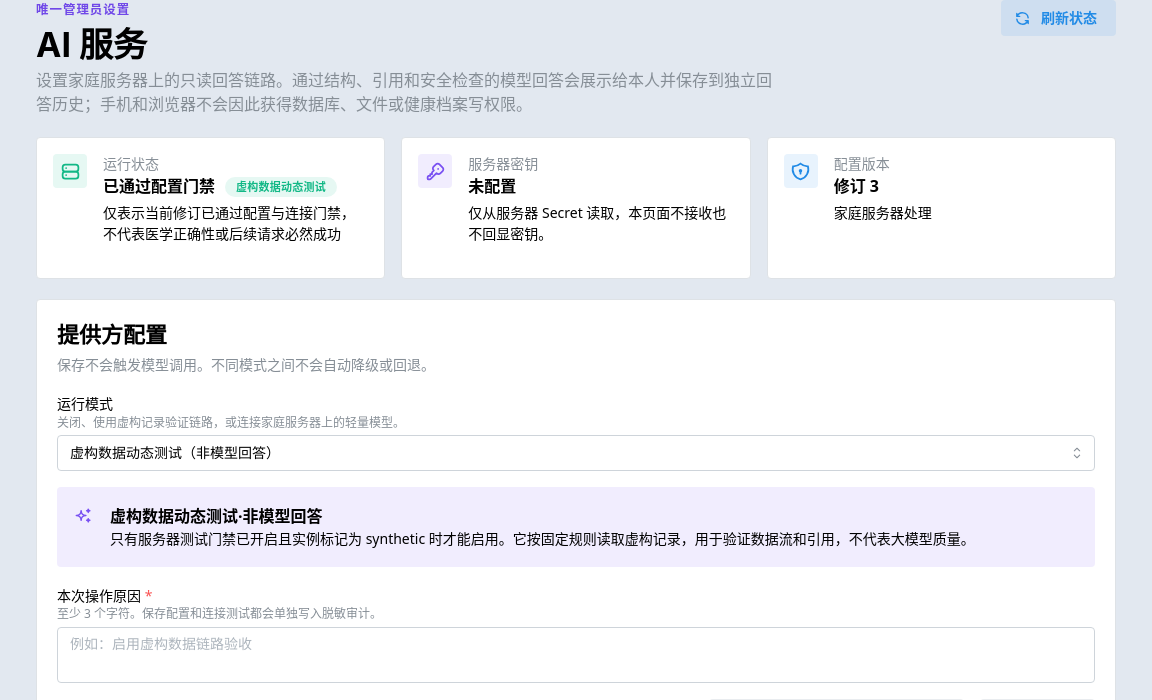
Test: AdminHealthAiSettingsPage › tests the saved synthetic mode without member data or secret fields
Check: the heading "AI 服务" is shown, box [36,24,147,65]
Check: the text "已通过配置门禁" is shown, box [103,174,215,199]
In the text box labelled "本次操作原因 *": (576, 655) [57,627,1095,683], type "验证虚构数据链路"
(page scrolled)
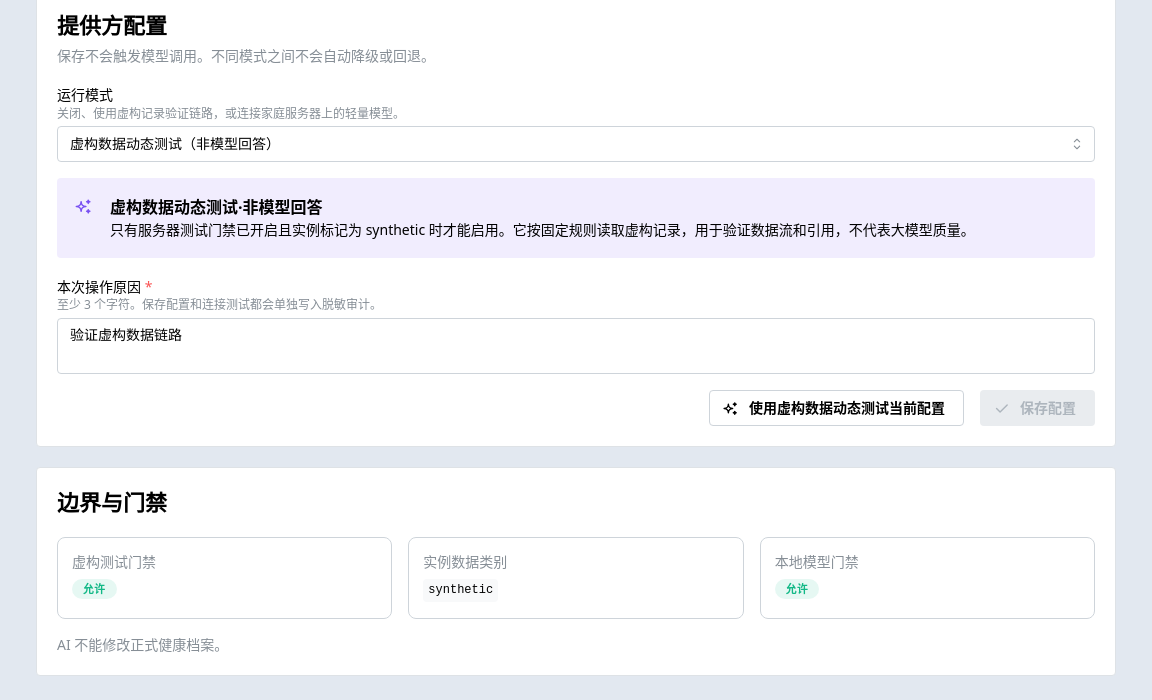
Click the button "使用虚构数据动态测试当前配置": click(836, 408) [709,390,964,426]
(page scrolled)
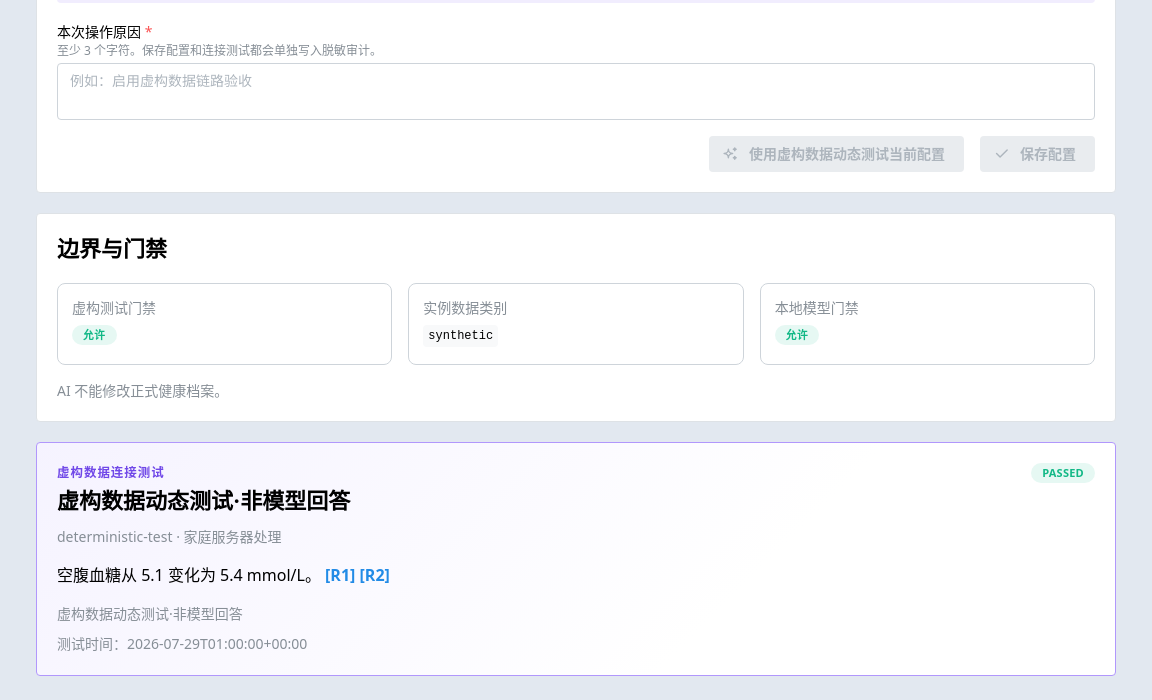
Check: the heading "虚构数据动态测试·非模型回答" is shown, box [57,486,350,517]
Check: the text "空腹血糖从 5.1 变化为 5.4 mmol/L。" is shown, box [57,564,321,586]
